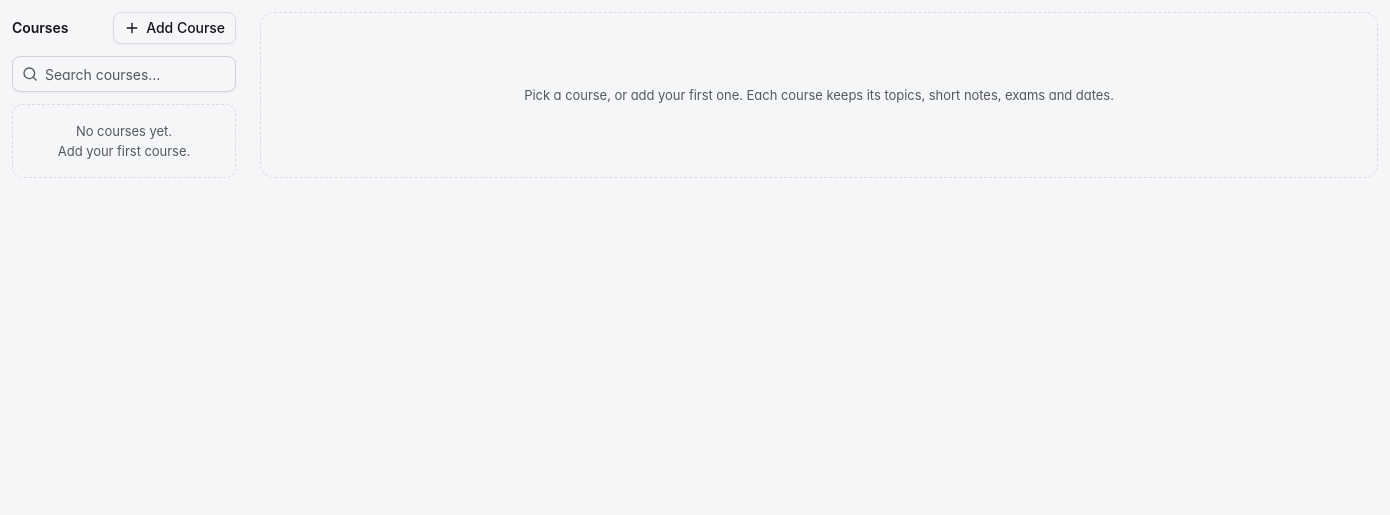
Test case: the Course page › starts empty, adds a course, and shows its name, badge and summary
Check: the list item "No courses yet.Add your first course." is shown, box [12,104,236,178]
Click the button "Add Course": (175, 28) [113,12,236,44]
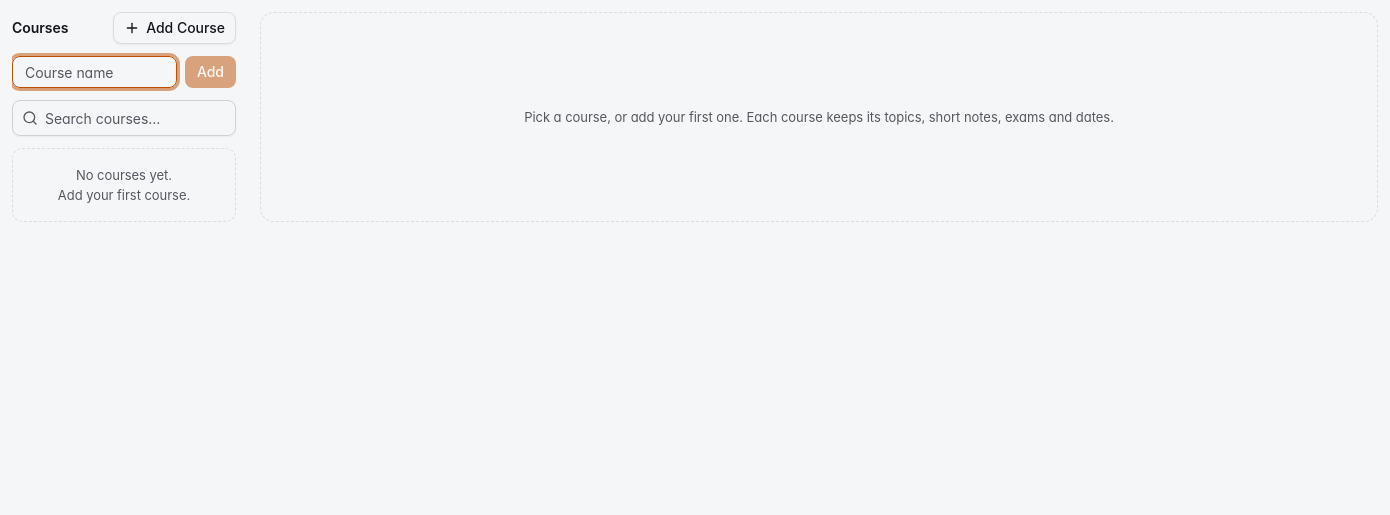
In the field named "New course name": (94, 72) [12,56,177,88], type "Advanced Algorithms & Analysis"
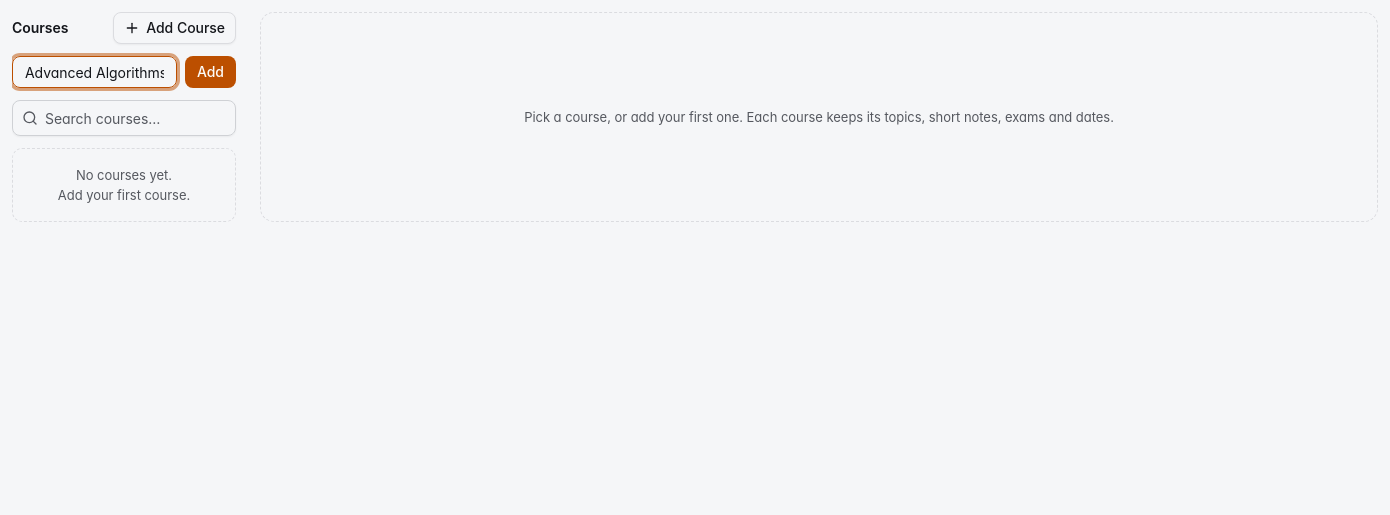
Click the button "Add": (210, 72) [185,56,236,88]
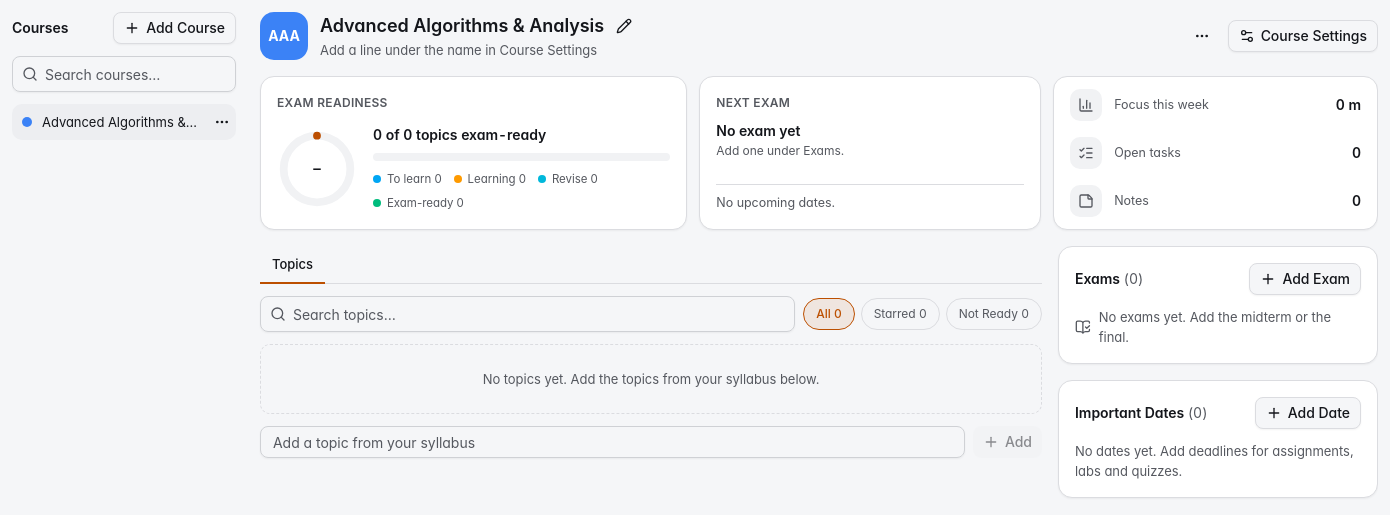
Check: the heading "Advanced Algorithms & Analysis" is shown, box [320,12,638,40]
Check: the text "AAA" is shown, box [260,12,308,60]
Check: the text "No exam yet" is shown, box [716,122,800,139]
